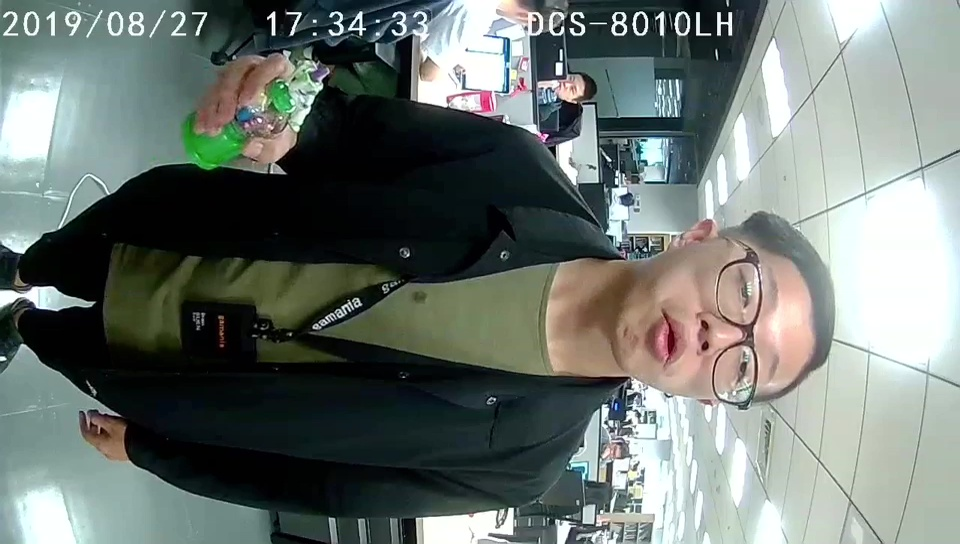buzz: (182, 58, 329, 171)
